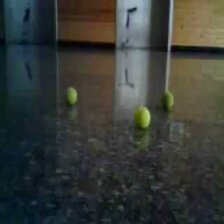tennis: (135, 106, 150, 131), (160, 89, 176, 110), (65, 87, 78, 106)
